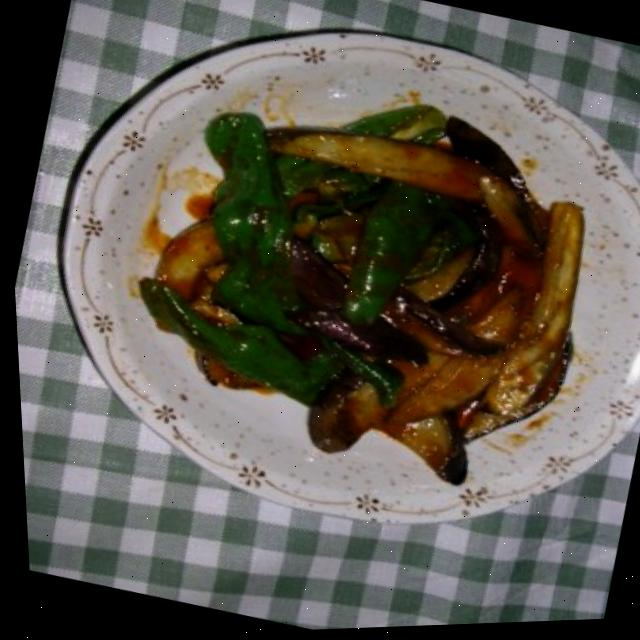鸡蛋料理: (73, 17, 638, 557)
